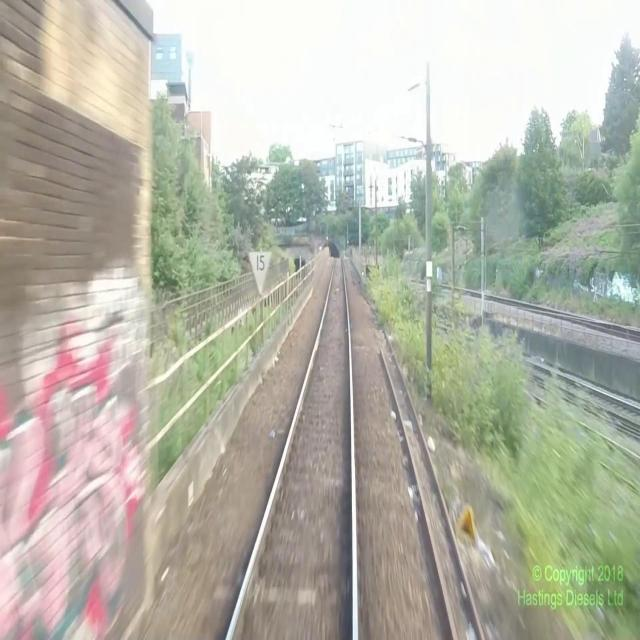rail-track: (231, 258, 352, 639), (524, 362, 640, 420)
